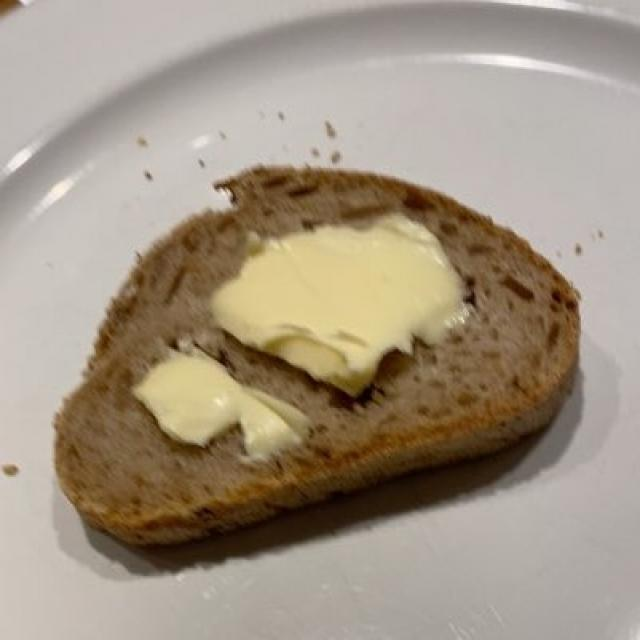bread: (63, 172, 575, 545)
butter: (124, 222, 454, 469)
